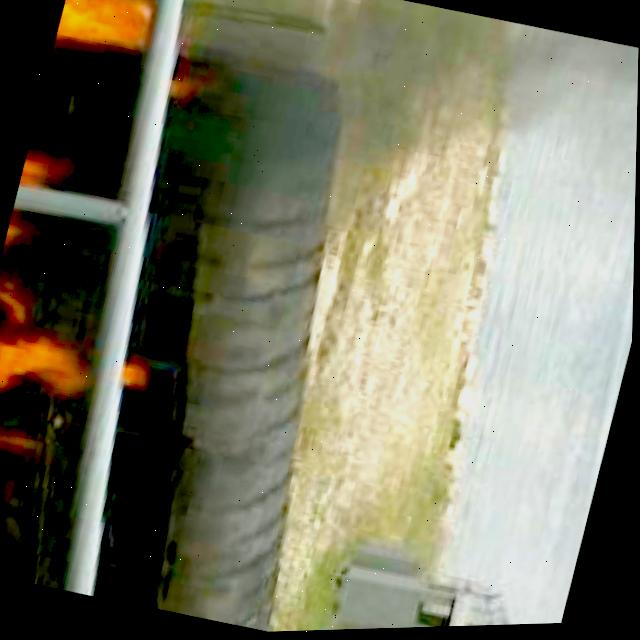Fire: (0, 280, 83, 579), (0, 145, 79, 277), (46, 0, 158, 91)
